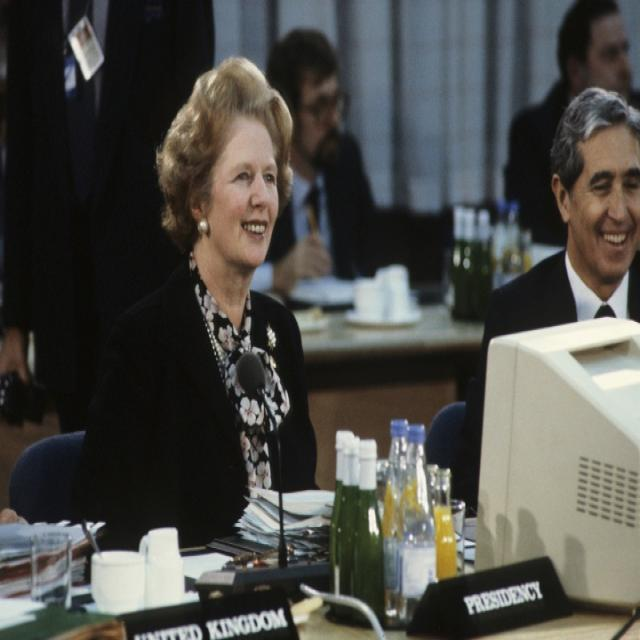body: (73, 53, 320, 557), (0, 0, 216, 438), (455, 85, 640, 522), (241, 26, 386, 300), (503, 0, 640, 250), (0, 241, 32, 431), (74, 16, 102, 75)
